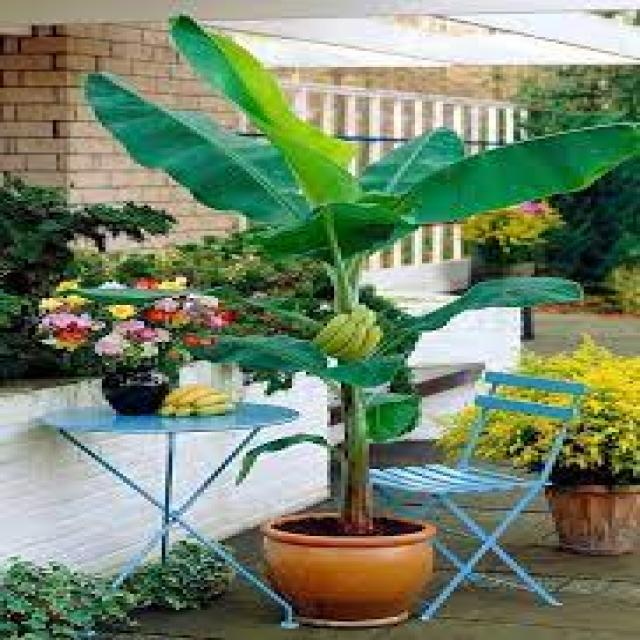banana: (310, 302, 384, 362), (154, 381, 236, 416)
